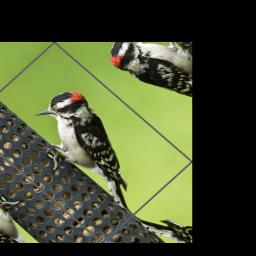Woodpecker: (12, 81, 169, 220)
